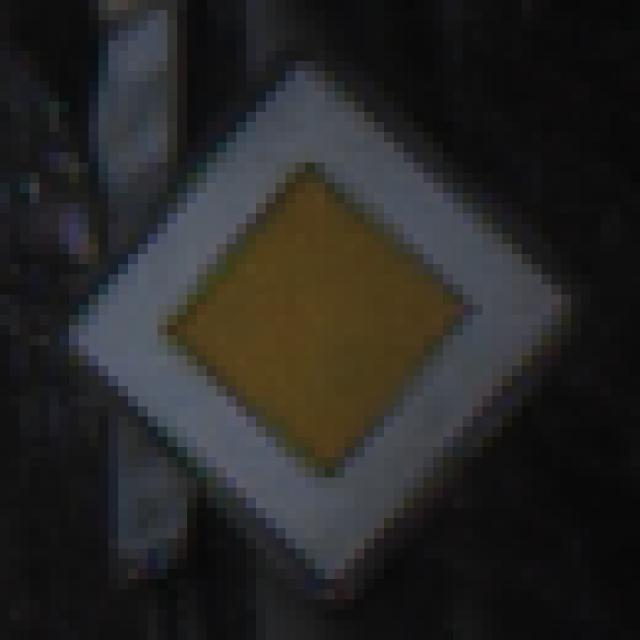Main Road: (60, 62, 592, 590)
